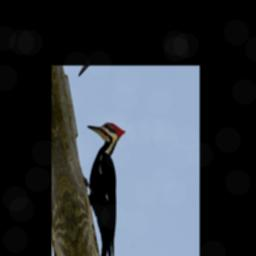Woodpecker: (76, 109, 148, 256)
